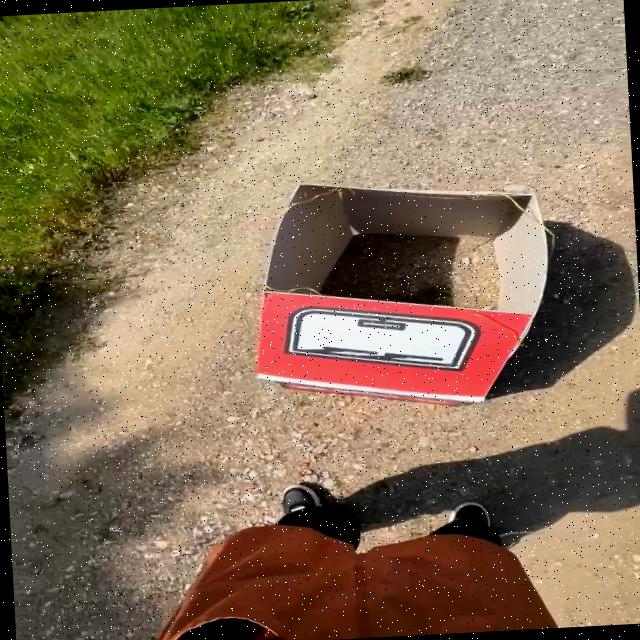red_car: (207, 141, 640, 465)
